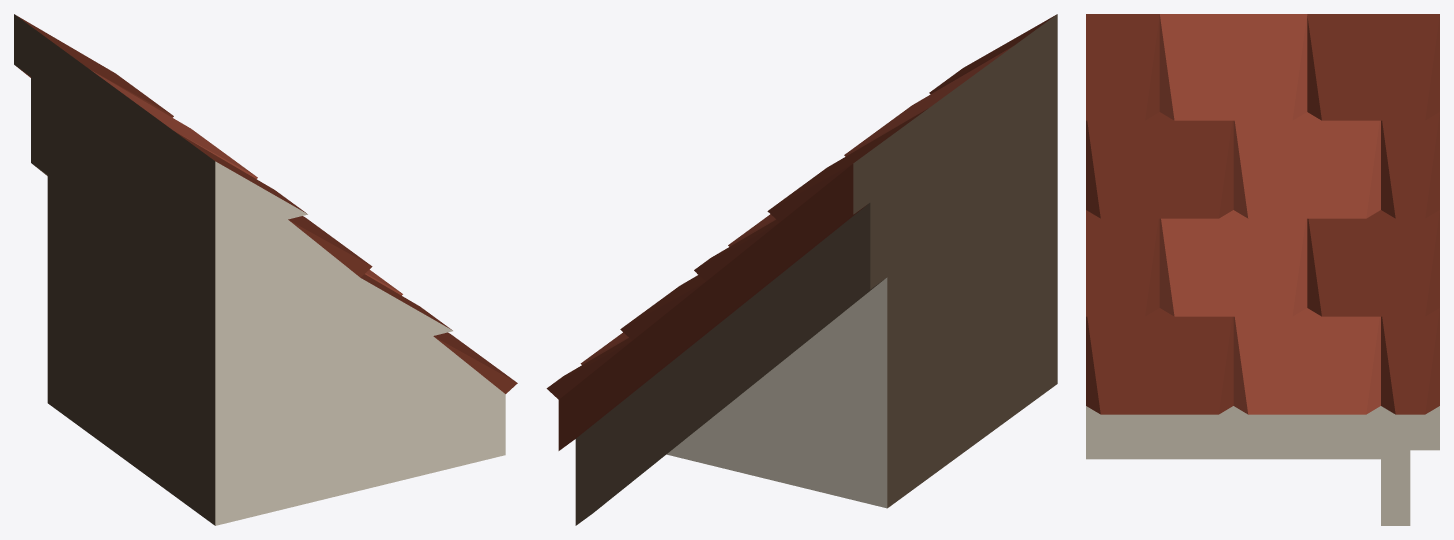
File: Roof_Straight_Side_Edge.obj
The picture shows the model from 3 angles, left to right: view 1: azimuth 30°, elevation 25°; view 2: azimuth 150°, elevation 25°; view 3: azimuth 270°, elevation 25°; orthographic projection. The views are drawn at different scales.
Visible parts, largest first — view 1: object1; view 2: object1; view 3: object1.
Part boxes in pixels (bbox=[...]): object1: bbox=[14, 14, 517, 525]; object1: bbox=[546, 14, 1057, 525]; object1: bbox=[1086, 14, 1439, 525].
Bounding box in the file's own units: 1.07 × 1.45 × 1.2.
